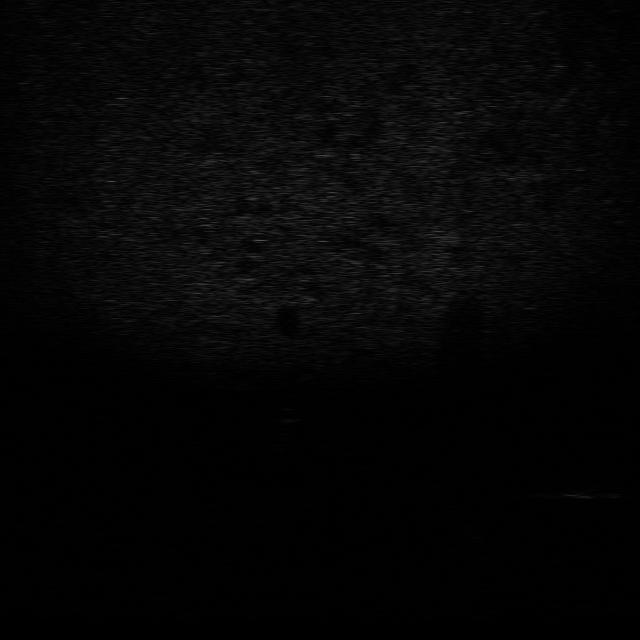ball: (268, 405, 308, 426)
metal bucket: (532, 486, 622, 504)
tyre: (441, 504, 490, 552)
